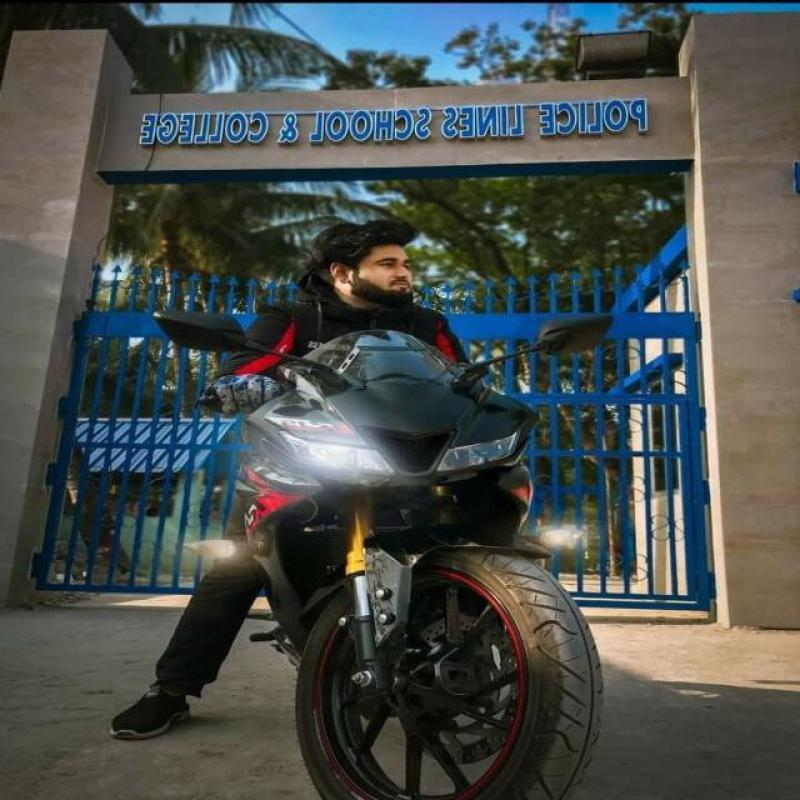nohelmet: (311, 217, 457, 304)
